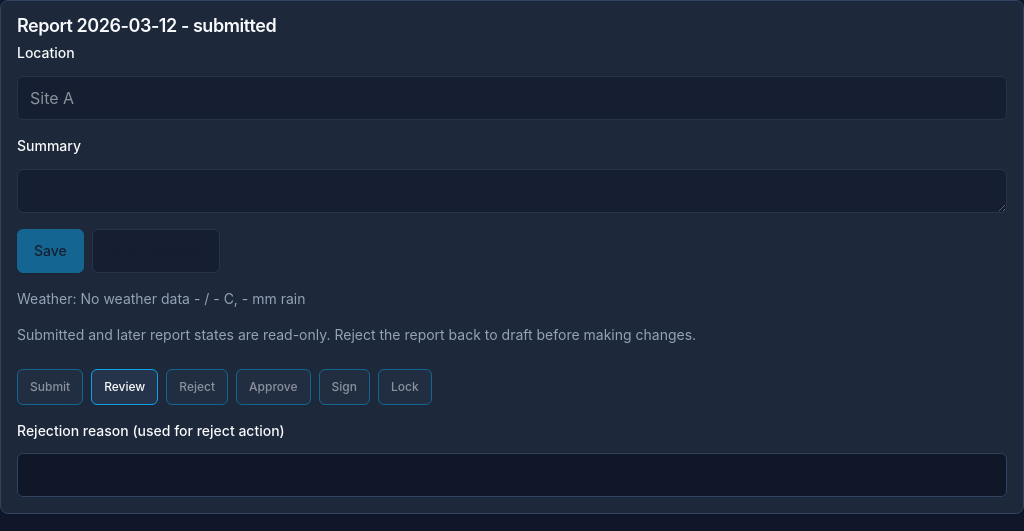
ReportDetail reject action › requires a non-empty reason before enabling Reject
Expected: the button "Reject" is disabled, 166,369 -> 228,405
Type "Missing signature details" into the field labelled "Rejection reason (used for reject action)" at (512, 475), box 17,453 -> 1007,497
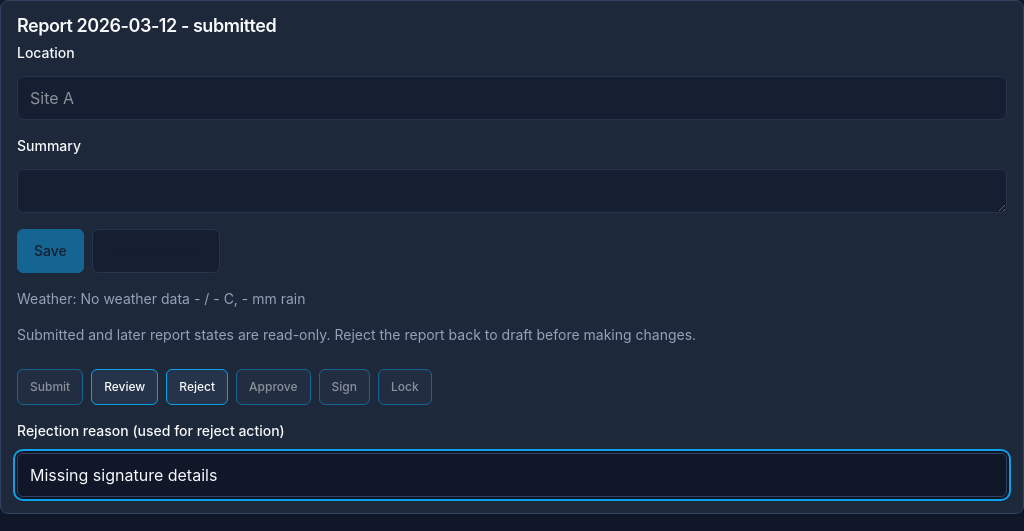
Result: the button "Reject" is enabled at 166,369 -> 228,405
